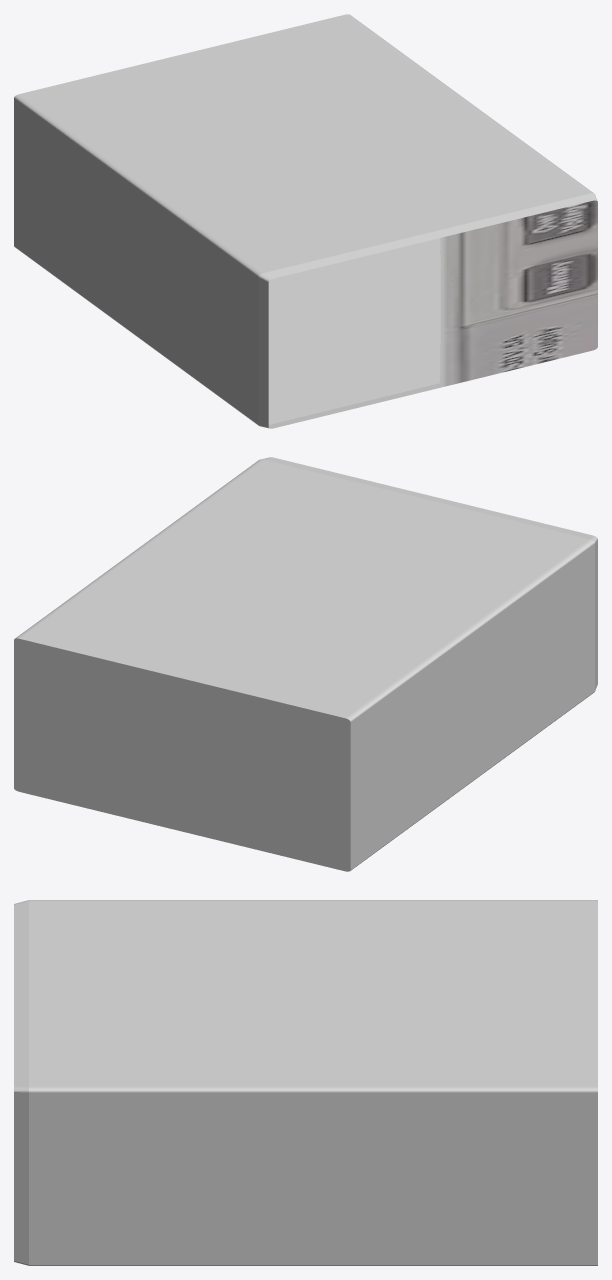
File: PowerSupply.fbx
3 renders of one model, top to bottom at view 1: azimuth 30°, elevation 25°; view 2: azimuth 150°, elevation 25°; view 3: azimuth 270°, elevation 25°, orthographic. The views are drawn at different scales.
Visible parts, largest first — view 1: node_2f652fb2_03cc_4a98_87fd_ade5cf5d6cd2_mesh0, node_2f652fb2_03cc_4a98_87fd_ade5cf5d6cd2_mesh1; view 2: node_2f652fb2_03cc_4a98_87fd_ade5cf5d6cd2_mesh0, node_2f652fb2_03cc_4a98_87fd_ade5cf5d6cd2_mesh2; view 3: node_2f652fb2_03cc_4a98_87fd_ade5cf5d6cd2_mesh0.
Part boxes in pixels (x1,y1,x2,y2): node_2f652fb2_03cc_4a98_87fd_ade5cf5d6cd2_mesh0: [14, 14, 597, 428]; node_2f652fb2_03cc_4a98_87fd_ade5cf5d6cd2_mesh1: [440, 200, 597, 387]; node_2f652fb2_03cc_4a98_87fd_ade5cf5d6cd2_mesh0: [15, 457, 597, 870]; node_2f652fb2_03cc_4a98_87fd_ade5cf5d6cd2_mesh2: [14, 638, 350, 871]; node_2f652fb2_03cc_4a98_87fd_ade5cf5d6cd2_mesh0: [14, 900, 597, 1265].
Bounding box in the file's own units: 481 × 209 × 621.
3 materials, 1 textured.
